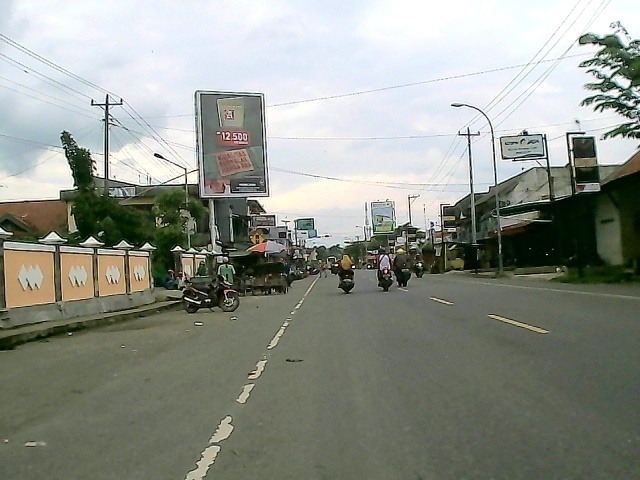Lampu isyarat: (247, 231, 266, 246)
